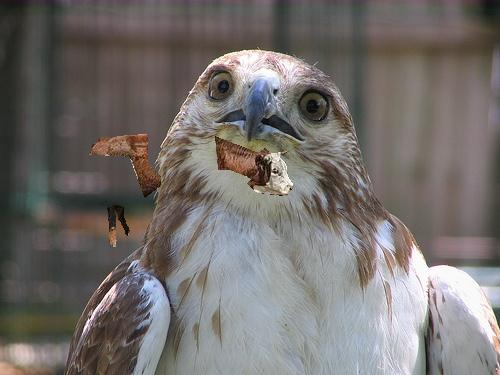tampered: (90, 135, 293, 247)
